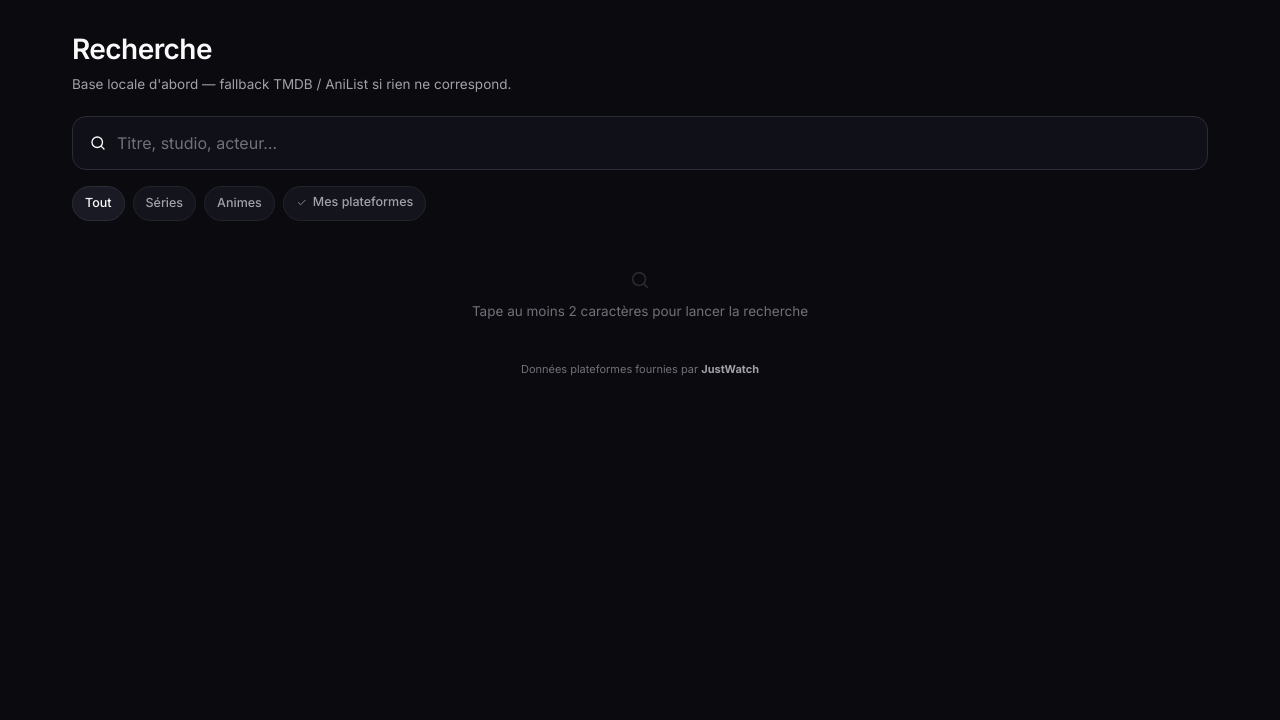
Test case: Search & Settings Pages › SearchPage › browses anime by genre, season and year without typing a title
Click the button "Animes". click: x=239, y=204
box: [204,186,275,221]
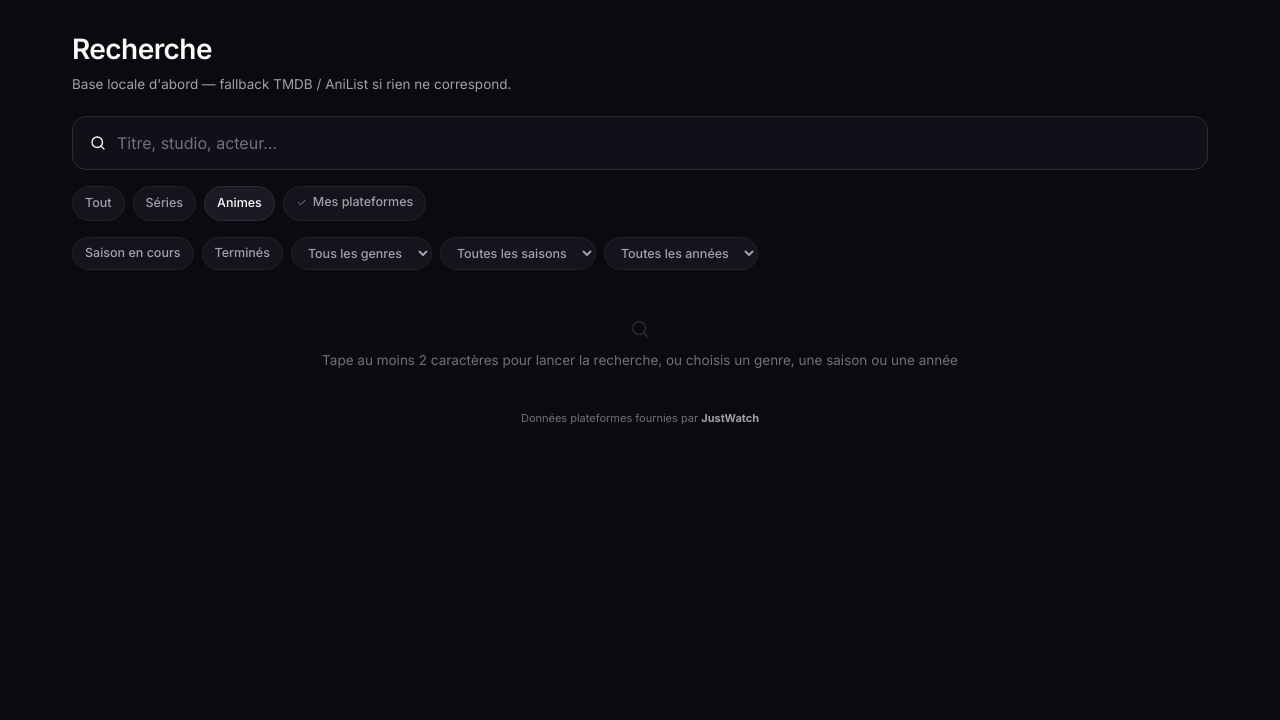
Select "Action" in the dropdown named "Genre". click: x=361, y=253
box: [291,237,432,270]
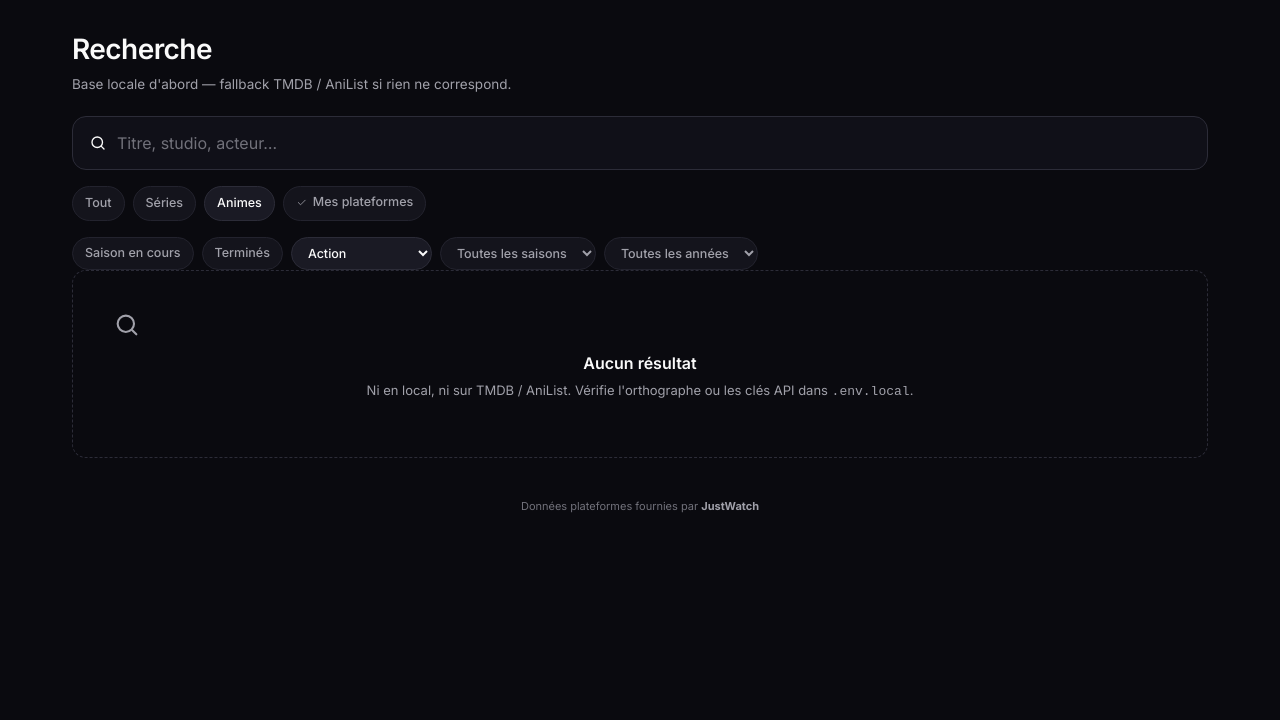
Select "Automne" in the dropdown named "Saison". click: x=518, y=253
box: [440,237,596,270]
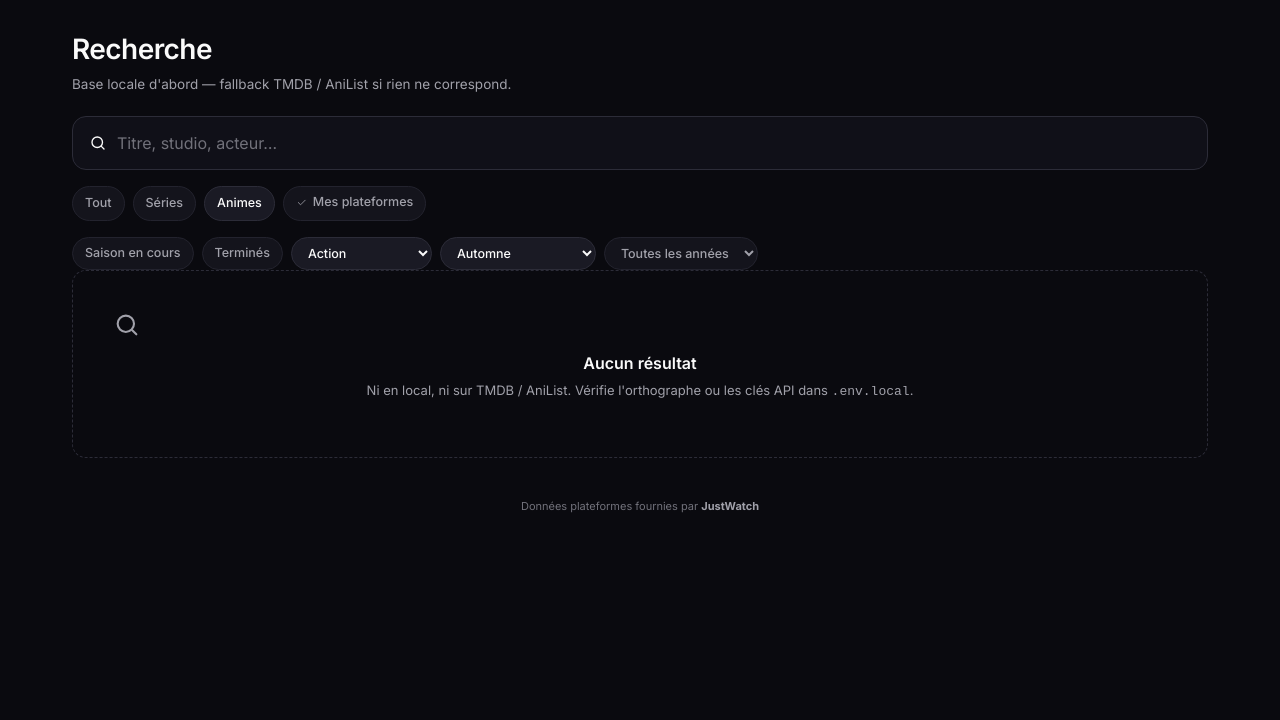
Select "2026" in the dropdown named "Année". click: x=681, y=253
box: [604,237,758,270]
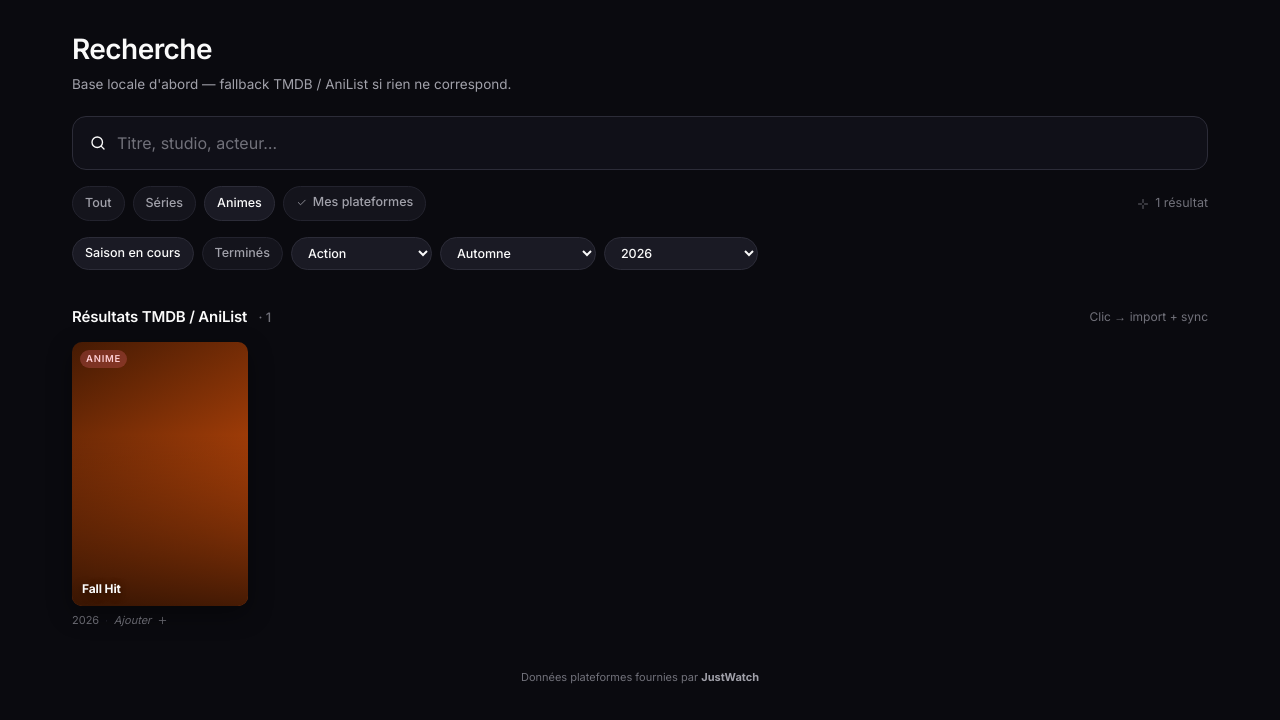
Expected: the text "Tape au moins 2 caractères" is not shown
Expected: the text "Fall Hit" is shown, [82,581,121,596]
